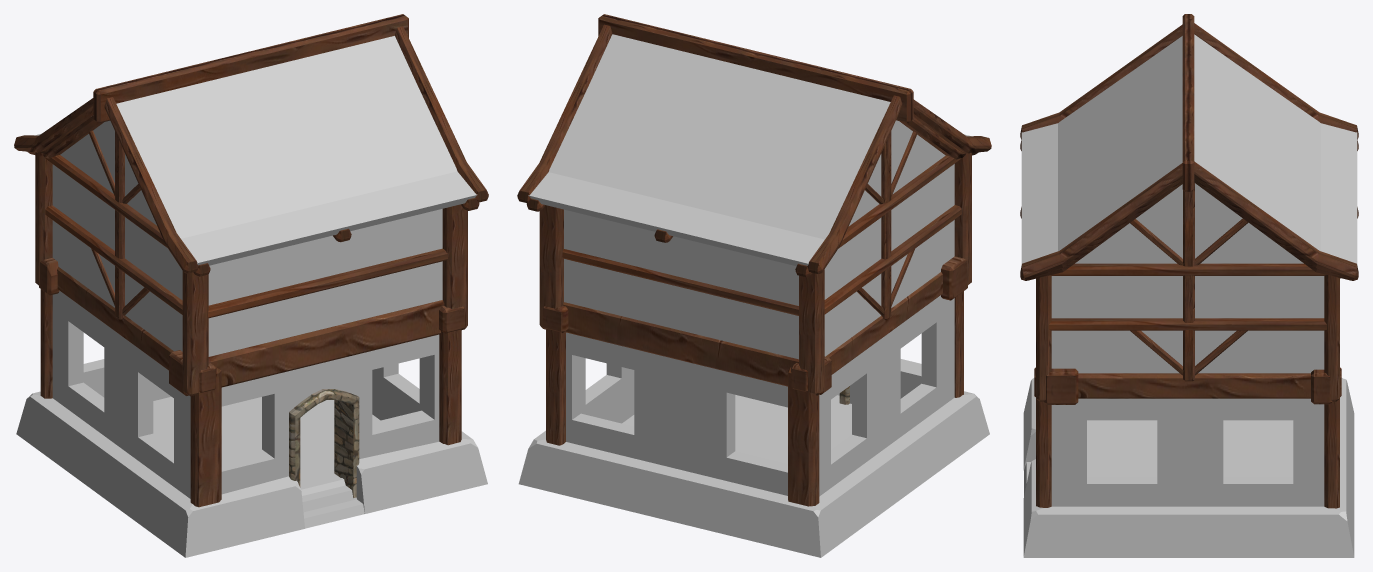
The model's file is House2S.fbx.
The picture shows the model from 3 angles, left to right: view 1: azimuth 30°, elevation 25°; view 2: azimuth 150°, elevation 25°; view 3: azimuth 270°, elevation 25°; orthographic projection. The views are drawn at different scales.
Visible parts, largest first — view 1: House2S1S, House2SRoof, House2S2S; view 2: House2S1S, House2SRoof, House2S2S; view 3: House2S1S, House2SRoof, House2S2S.
Part boxes in pixels (left/top/right/bottom): House2S1S: left=16, top=258, right=487, bottom=557; House2SRoof: left=14, top=14, right=488, bottom=276; House2S2S: left=35, top=120, right=467, bottom=396; House2S1S: left=518, top=256, right=989, bottom=557; House2SRoof: left=517, top=14, right=991, bottom=277; House2S2S: left=539, top=120, right=971, bottom=395; House2S1S: left=1023, top=278, right=1354, bottom=557; House2SRoof: left=1020, top=14, right=1358, bottom=280; House2S2S: left=1036, top=183, right=1339, bottom=401.
Size of the model in its own units: 1216 by 1515 by 1167.
